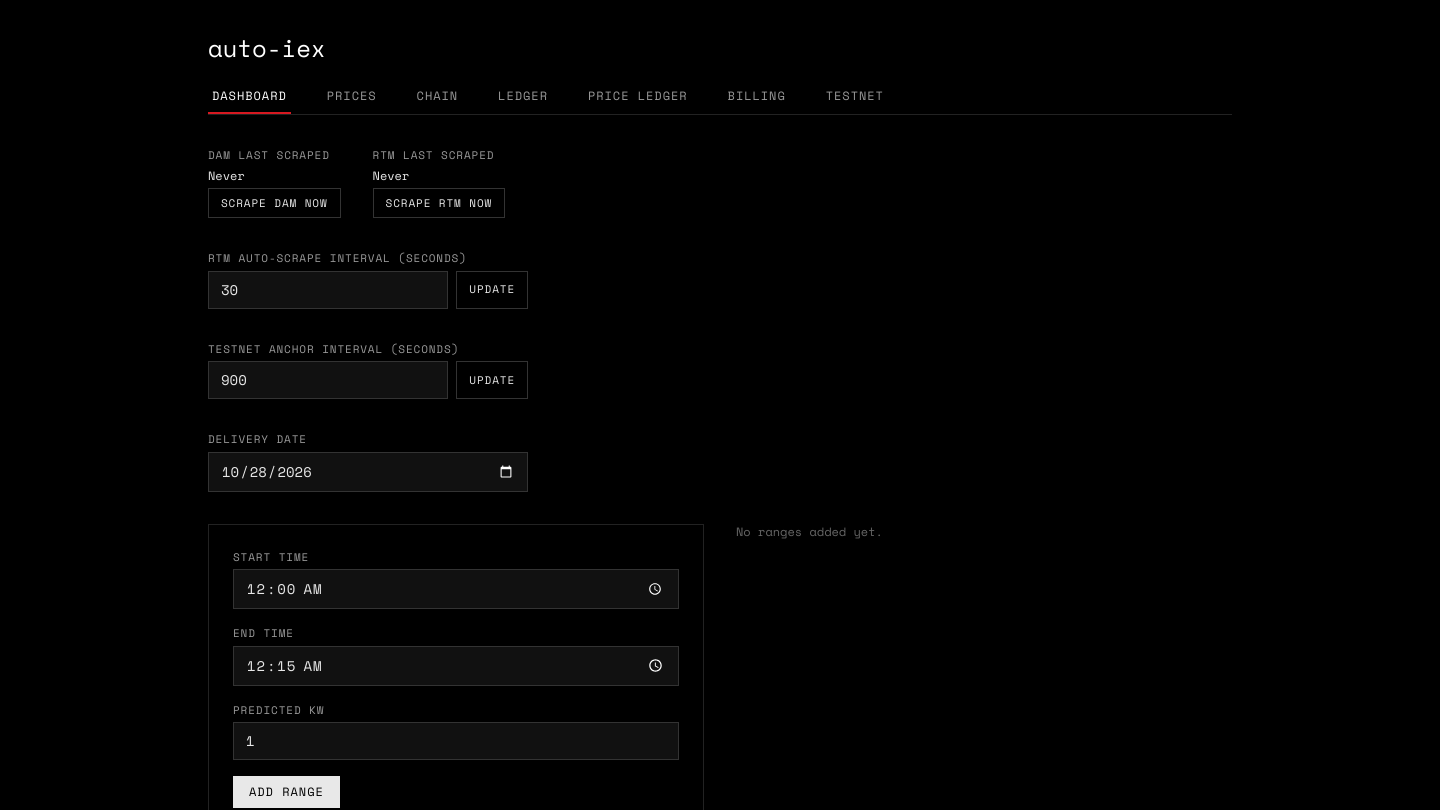
App › removing a range clears it from the range list
The width and height of the screenshot is (1440, 810).
Replace the text in the time field labelled "Start time" with "18:00" at (456, 589), box [233,569,679,609]
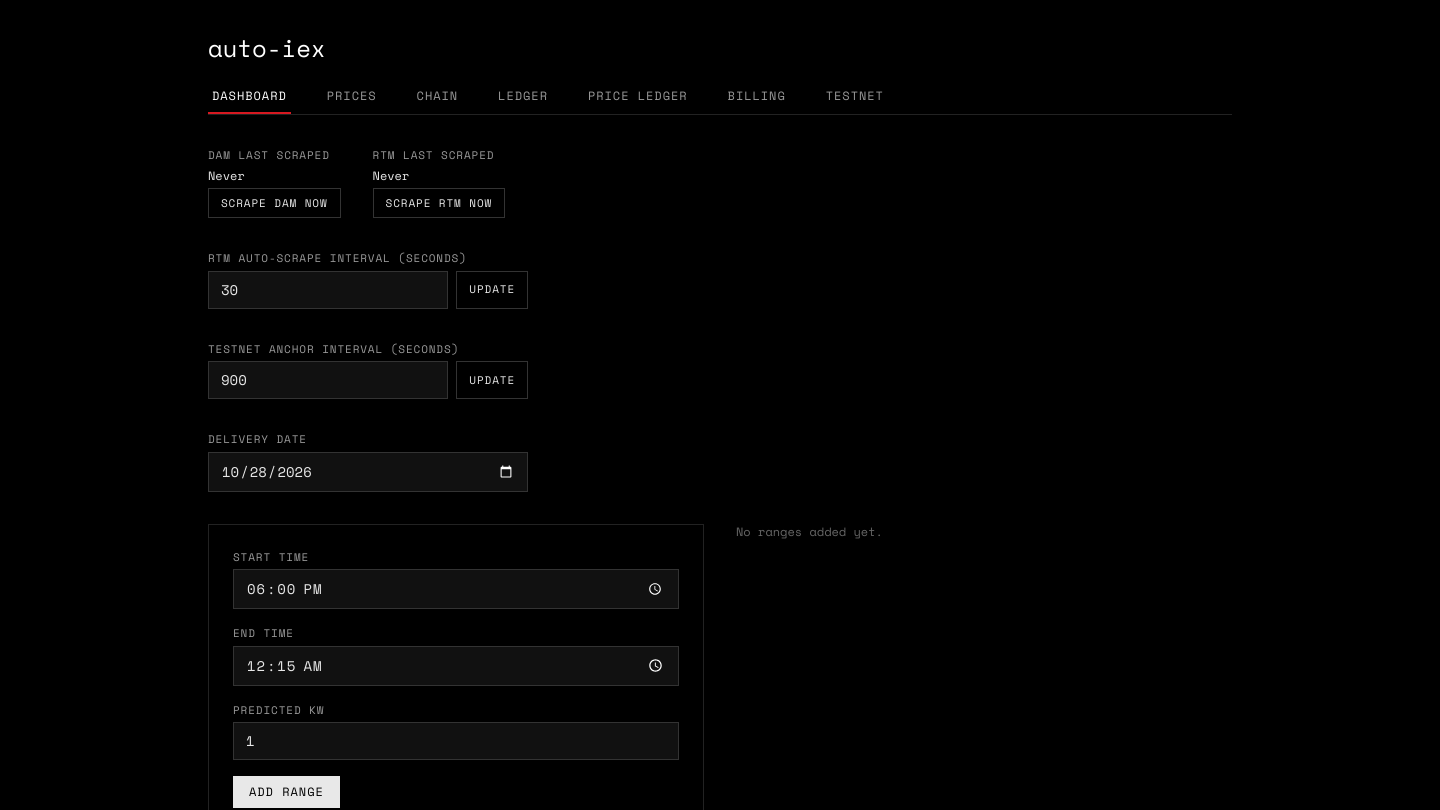
Replace the text in the time field labelled "End time" with "19:00" at (456, 666), box [233,646,679,686]
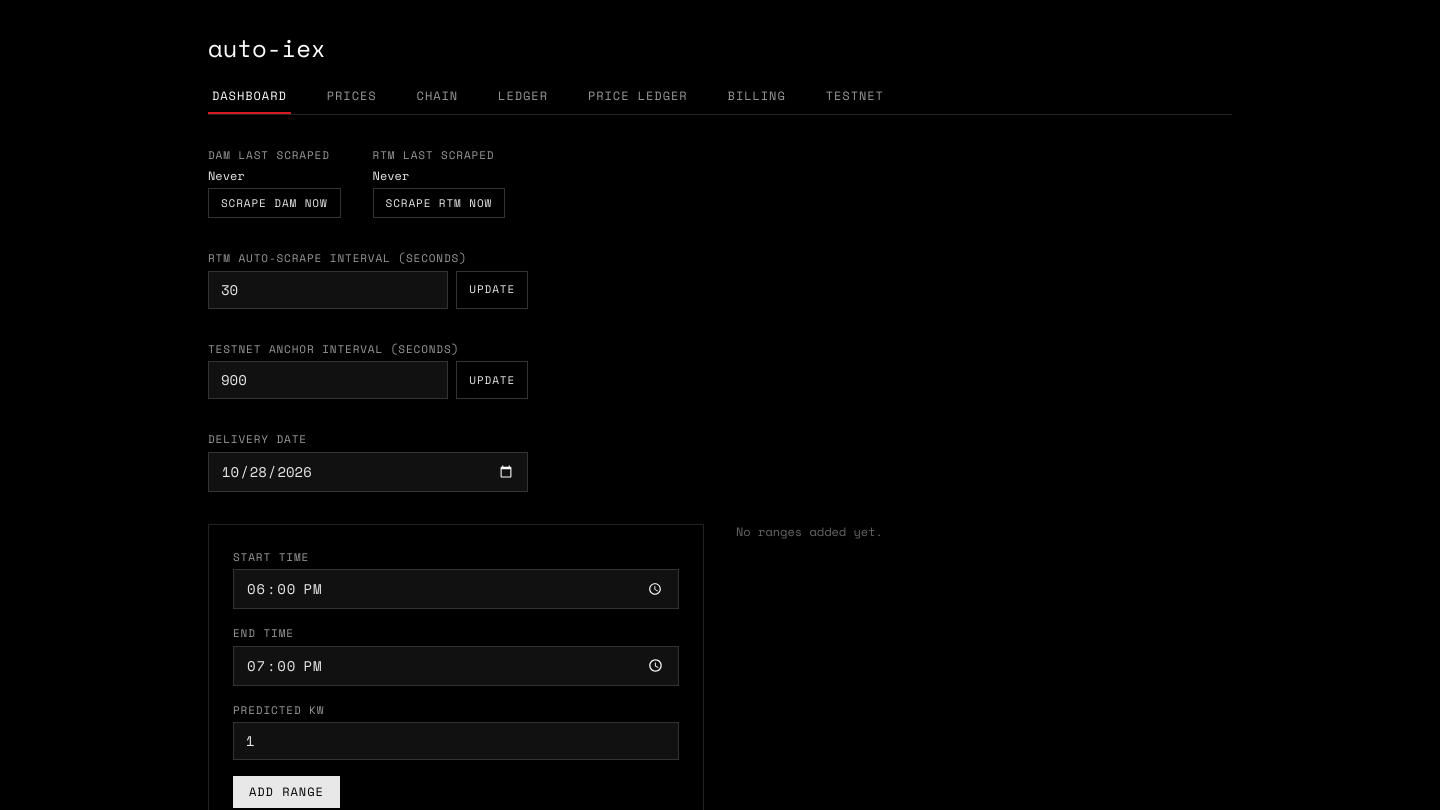
Replace the text in the number field labelled "Predicted kW" with "4.5" at (456, 741), box [233,722,679,760]
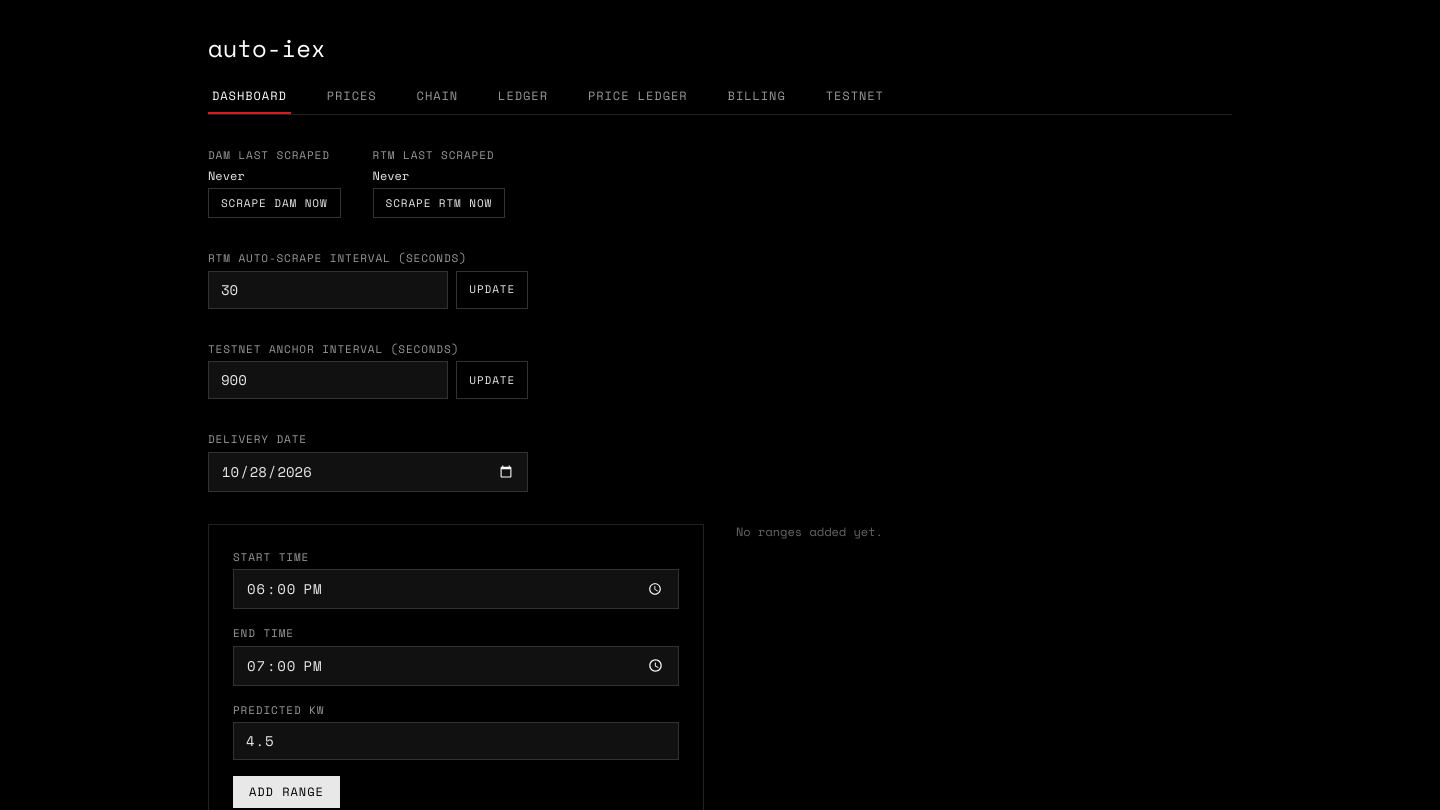
Click the button "Add range".
click(286, 792)  # box [233,776,340,808]
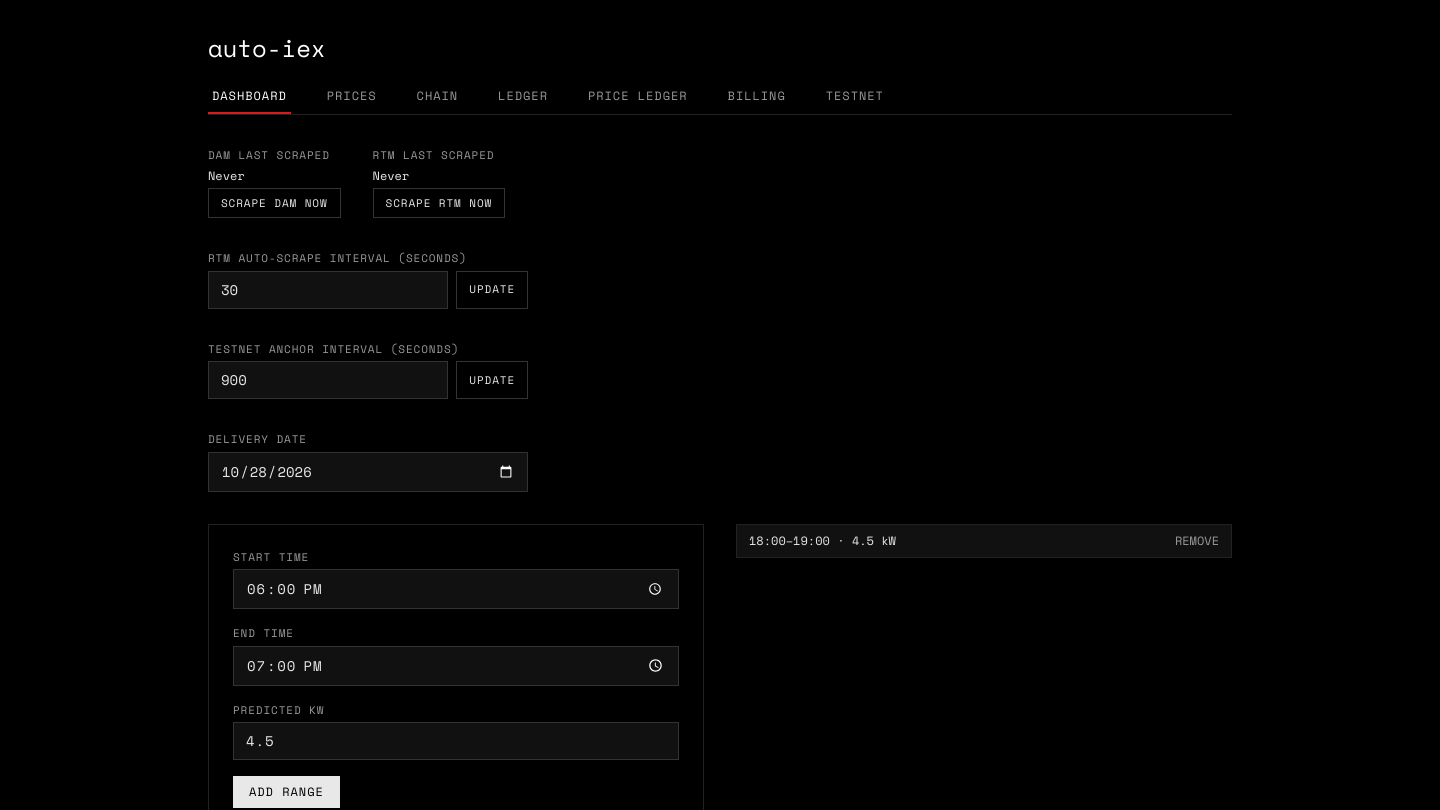
Expected: the text "18:00–19:00 · 4.5 kW" is shown, [749,532,896,548]
Click the button "REMOVE".
click(1197, 540)  # box [1175,532,1219,548]
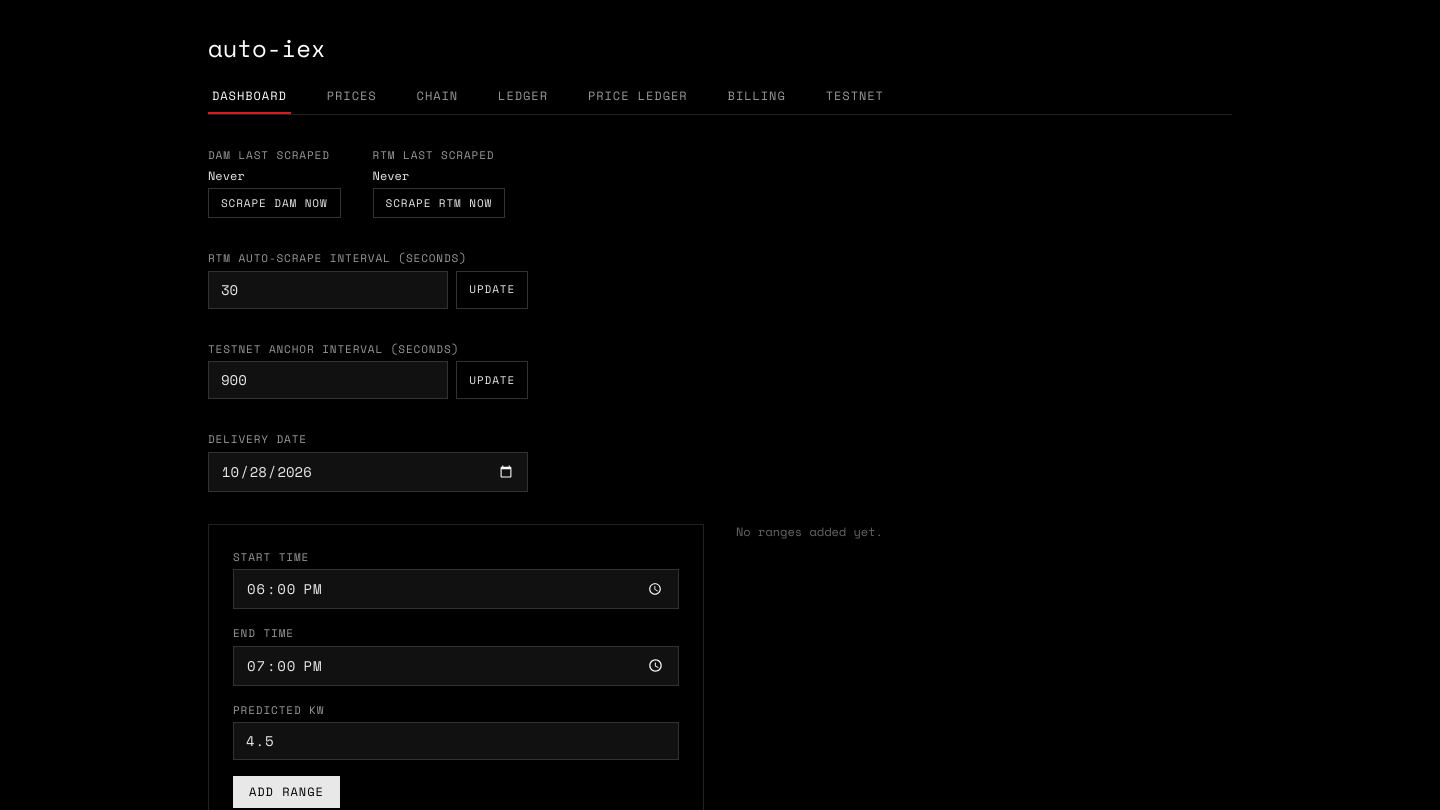
Expected: the text "No ranges added yet." is shown, [736,522,883,540]
